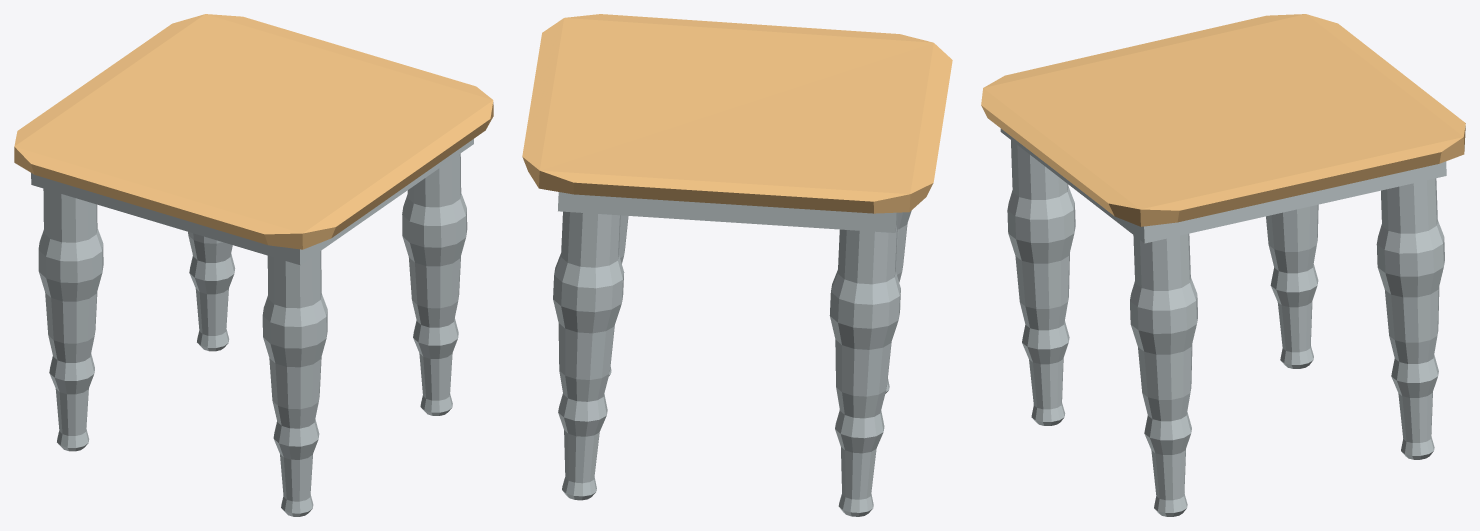
Rendered from Kitchen table.glb.
The picture shows the model from 3 angles, left to right: view 1: azimuth 30°, elevation 25°; view 2: azimuth 150°, elevation 25°; view 3: azimuth 270°, elevation 25°; orthographic projection. The views are drawn at different scales.
Parts seen in each view (by area): view 1: group310684248; view 2: group310684248; view 3: group310684248.
Part boxes in pixels (x1,y1,x2,y2): group310684248: [14, 14, 493, 516]; group310684248: [522, 14, 952, 516]; group310684248: [981, 14, 1465, 516].
Bounding box in the file's own units: 0.7674 × 0.5921 × 0.7665.
